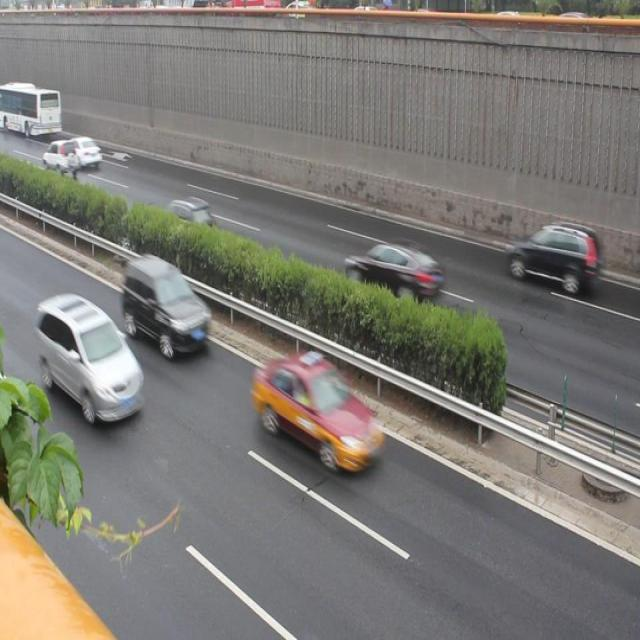car: (247, 353, 390, 485), (119, 253, 212, 359), (343, 235, 446, 309), (499, 219, 601, 293), (161, 194, 215, 247), (60, 130, 101, 167), (44, 138, 80, 178)
truck: (30, 292, 146, 424)
